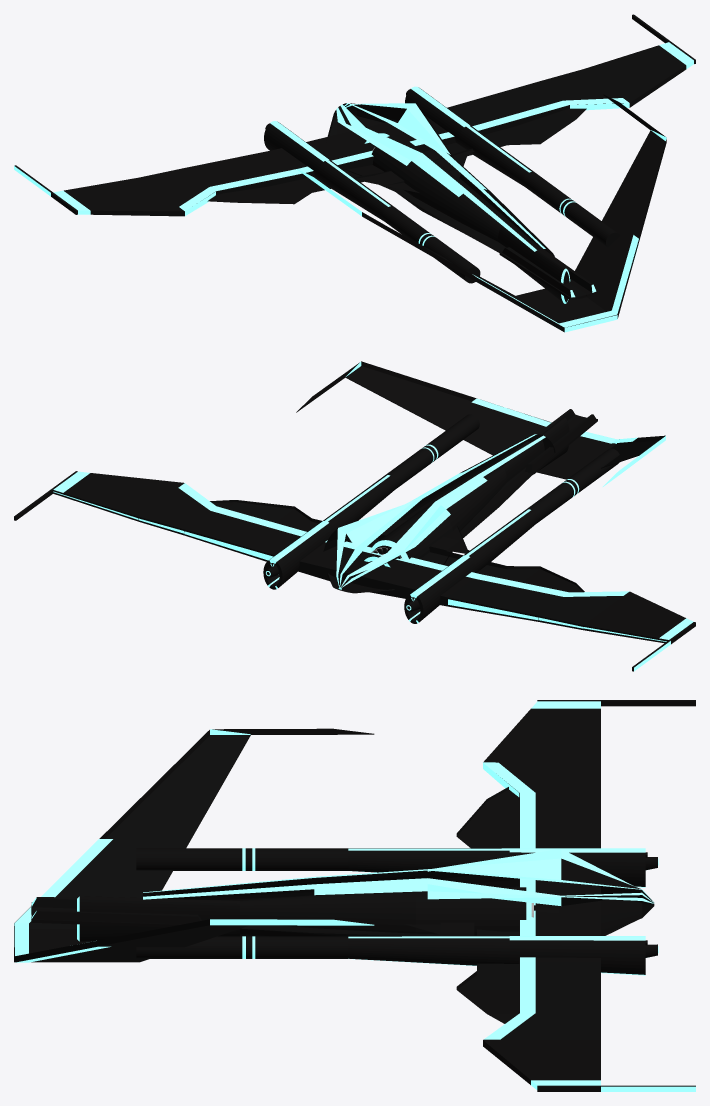
File: lightPlane01airframe.glb
The picture shows the model from 3 angles, top to bottom: view 1: azimuth 30°, elevation 25°; view 2: azimuth 150°, elevation 25°; view 3: azimuth 270°, elevation 25°; orthographic projection. The views are drawn at different scales.
Visible parts, largest first — view 1: planeBody, planeStripes; view 2: planeBody, planeStripes; view 3: planeBody, planeStripes.
Boxes of the visible parts, <box> form: planeBody: <box>14,14,695,332</box>; planeStripes: <box>14,42,693,332</box>; planeBody: <box>14,361,695,671</box>; planeStripes: <box>53,362,693,671</box>; planeBody: <box>14,700,695,1091</box>; planeStripes: <box>14,701,695,1091</box>.
Size of the model in its own units: 28 by 4.17 by 20.87.
